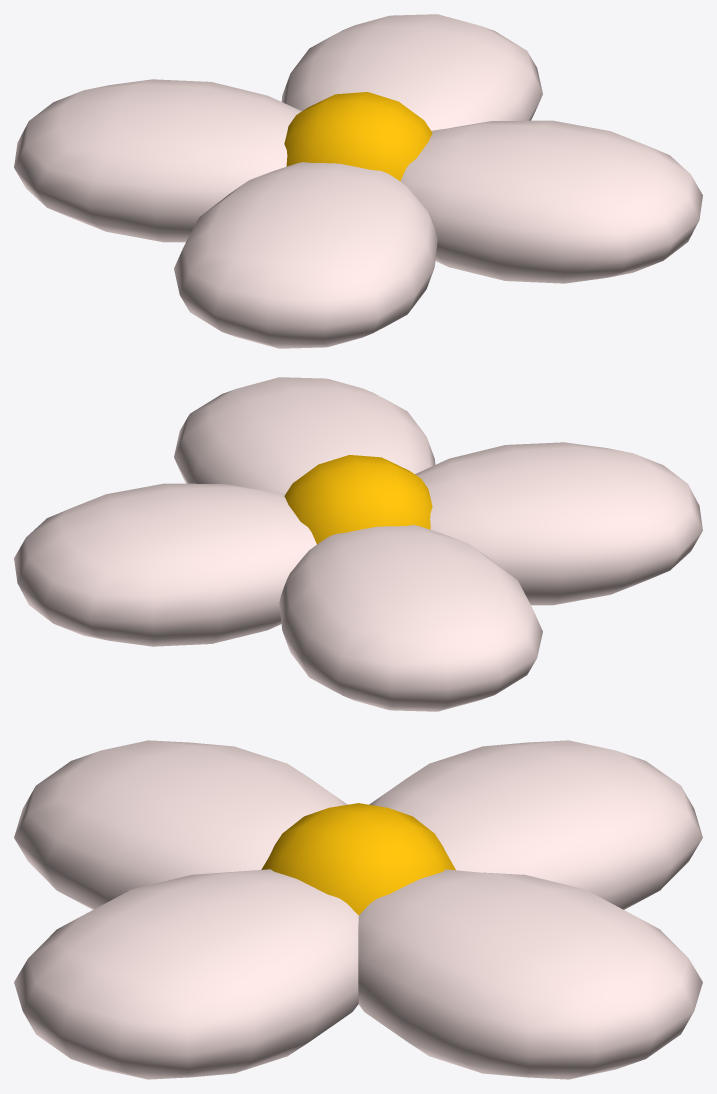
The model's file is Town_8_Flower_1.glb.
The picture shows the model from 3 angles, top to bottom: view 1: azimuth 30°, elevation 25°; view 2: azimuth 150°, elevation 25°; view 3: azimuth 270°, elevation 25°; orthographic projection. The views are drawn at different scales.
Parts seen in each view (by area): view 1: Town_8_Flower_1; view 2: Town_8_Flower_1; view 3: Town_8_Flower_1.
Boxes of the visible parts, x1,y1,x2,y2 form: Town_8_Flower_1: (14, 14, 702, 348); Town_8_Flower_1: (14, 377, 702, 711); Town_8_Flower_1: (14, 740, 702, 1079).
Bounding box in the file's own units: 0.3549 × 0.0938 × 0.3549.
Materials: 1 (1 with a texture image).
